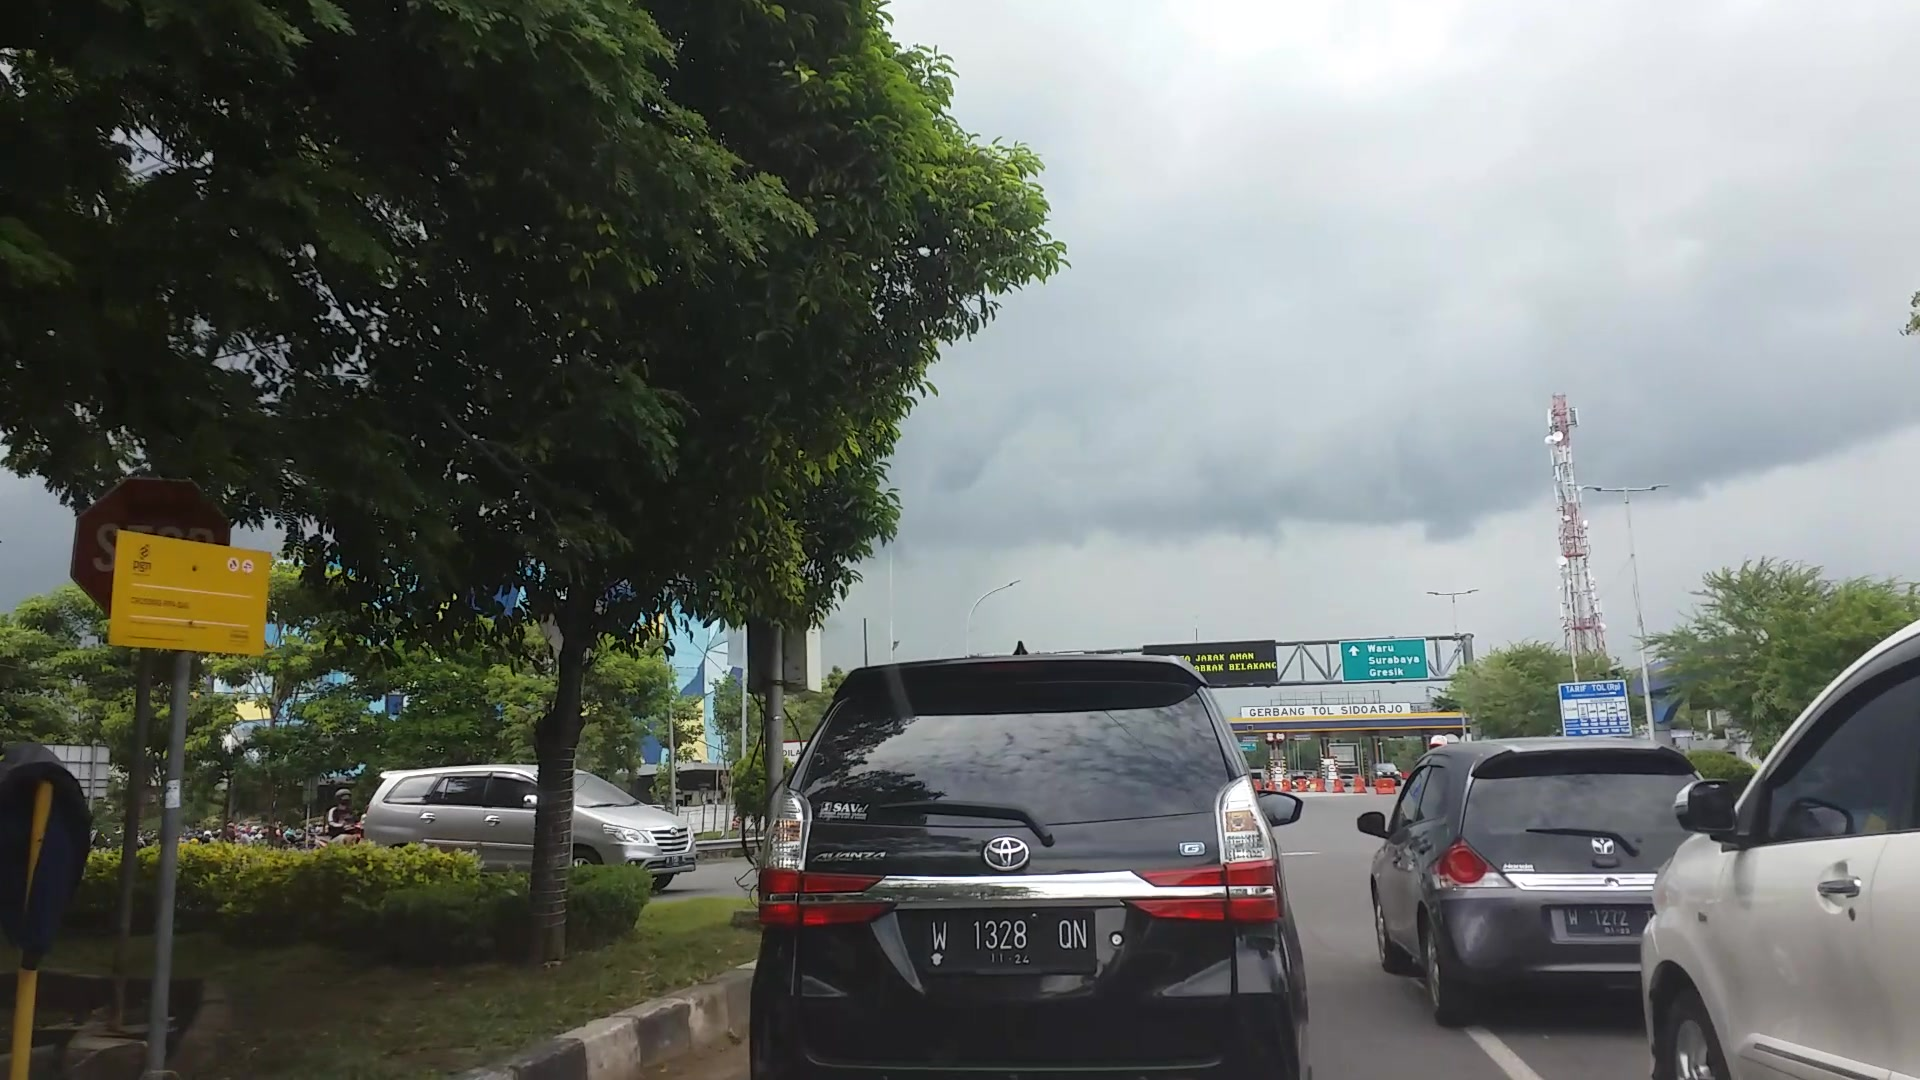plate_positive: (924, 909, 1096, 975)
